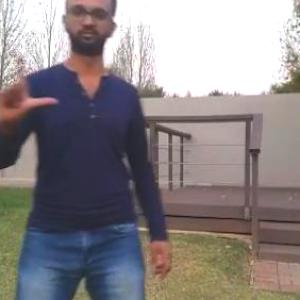land_hand: (0, 36, 66, 127)
